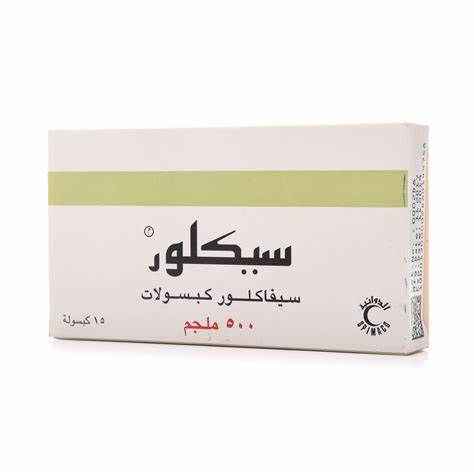Medicine: (38, 118, 441, 364)
